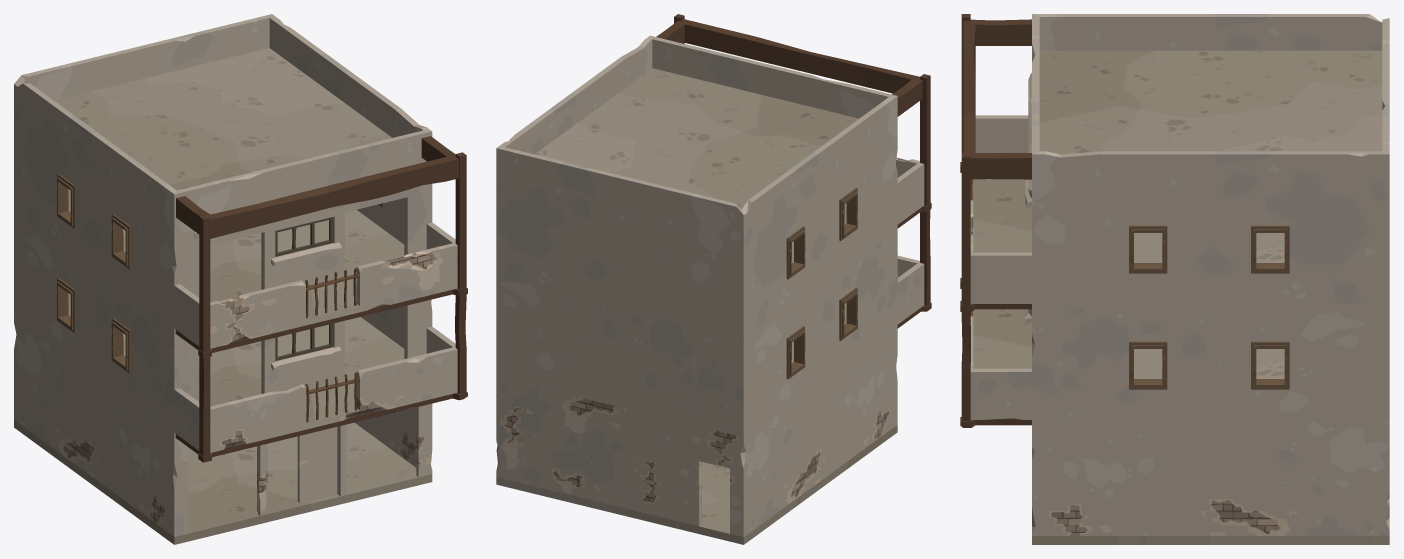
File: SM_Bld_Shop_04.glb
3 renders of one model, left to right at view 1: azimuth 30°, elevation 25°; view 2: azimuth 150°, elevation 25°; view 3: azimuth 270°, elevation 25°, orthographic. The views are drawn at different scales.
Parts seen in each view (by area): view 1: SM_Bld_Shop_04; view 2: SM_Bld_Shop_04; view 3: SM_Bld_Shop_04.
Boxes of the visible parts, x1=… form: SM_Bld_Shop_04: x1=14, y1=14, x2=467, y2=544; SM_Bld_Shop_04: x1=496, y1=14, x2=931, y2=544; SM_Bld_Shop_04: x1=960, y1=14, x2=1389, y2=544.
Bounding box in the file's own units: 9.2 × 11.64 × 11.59.
Materials: 1 (1 with a texture image).
